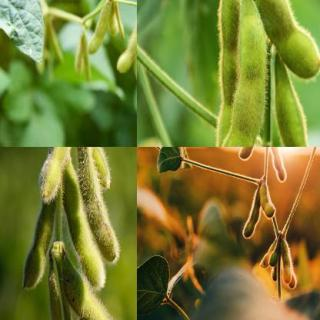soya: (218, 0, 266, 146), (61, 164, 107, 289), (75, 147, 118, 261), (259, 0, 319, 77), (61, 262, 136, 320), (275, 56, 319, 146), (215, 0, 240, 146), (23, 204, 55, 290), (40, 147, 76, 200), (116, 9, 136, 74), (83, 147, 111, 189), (87, 5, 109, 54), (47, 268, 65, 320), (242, 187, 260, 239), (260, 183, 276, 219), (270, 147, 286, 181), (280, 238, 291, 284), (268, 240, 282, 266), (237, 147, 258, 162), (288, 276, 300, 290), (260, 252, 268, 268), (272, 268, 276, 282)
